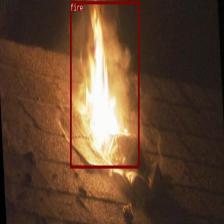fire: (70, 1, 139, 168)
